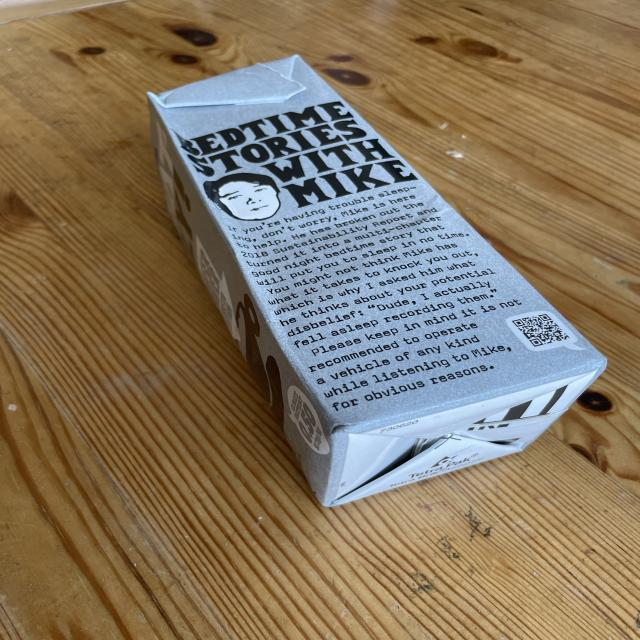non_white_jug: (155, 49, 591, 516)
